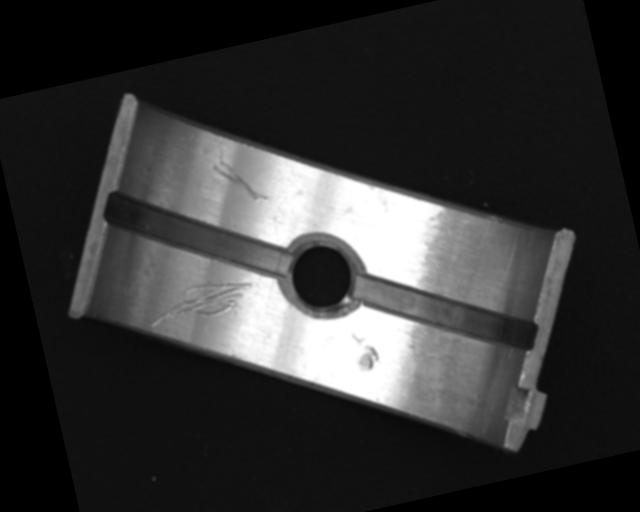bruise: (348, 326, 382, 374)
gap: (101, 159, 291, 310), (355, 239, 539, 383)
hole: (272, 230, 371, 324)
nick: (143, 271, 258, 331), (211, 153, 268, 212)
